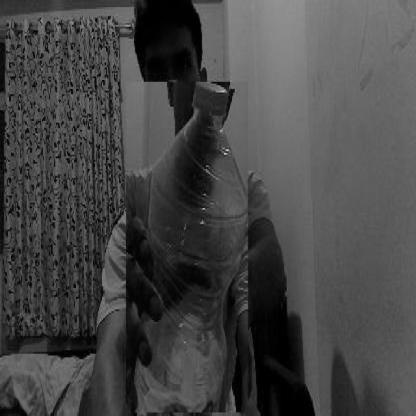plastic_bottles: (144, 156, 254, 416)
